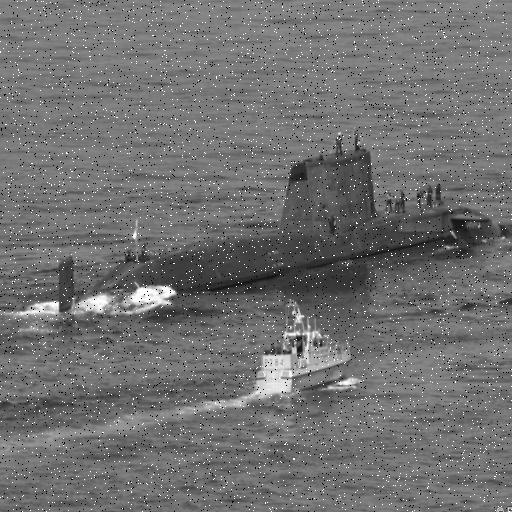submarine: (55, 147, 512, 313)
